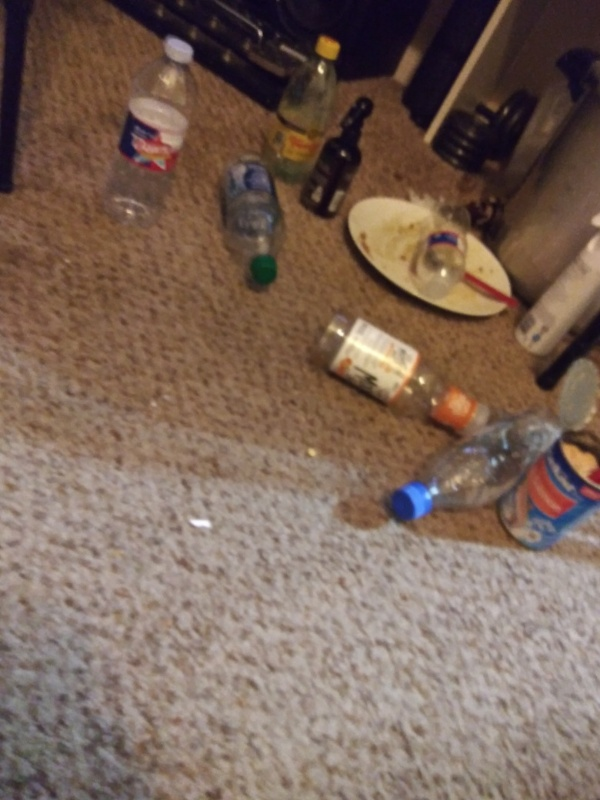bottle: (312, 307, 498, 439), (386, 395, 569, 525), (96, 35, 204, 235), (254, 29, 344, 191), (213, 149, 288, 292), (414, 192, 481, 304)
